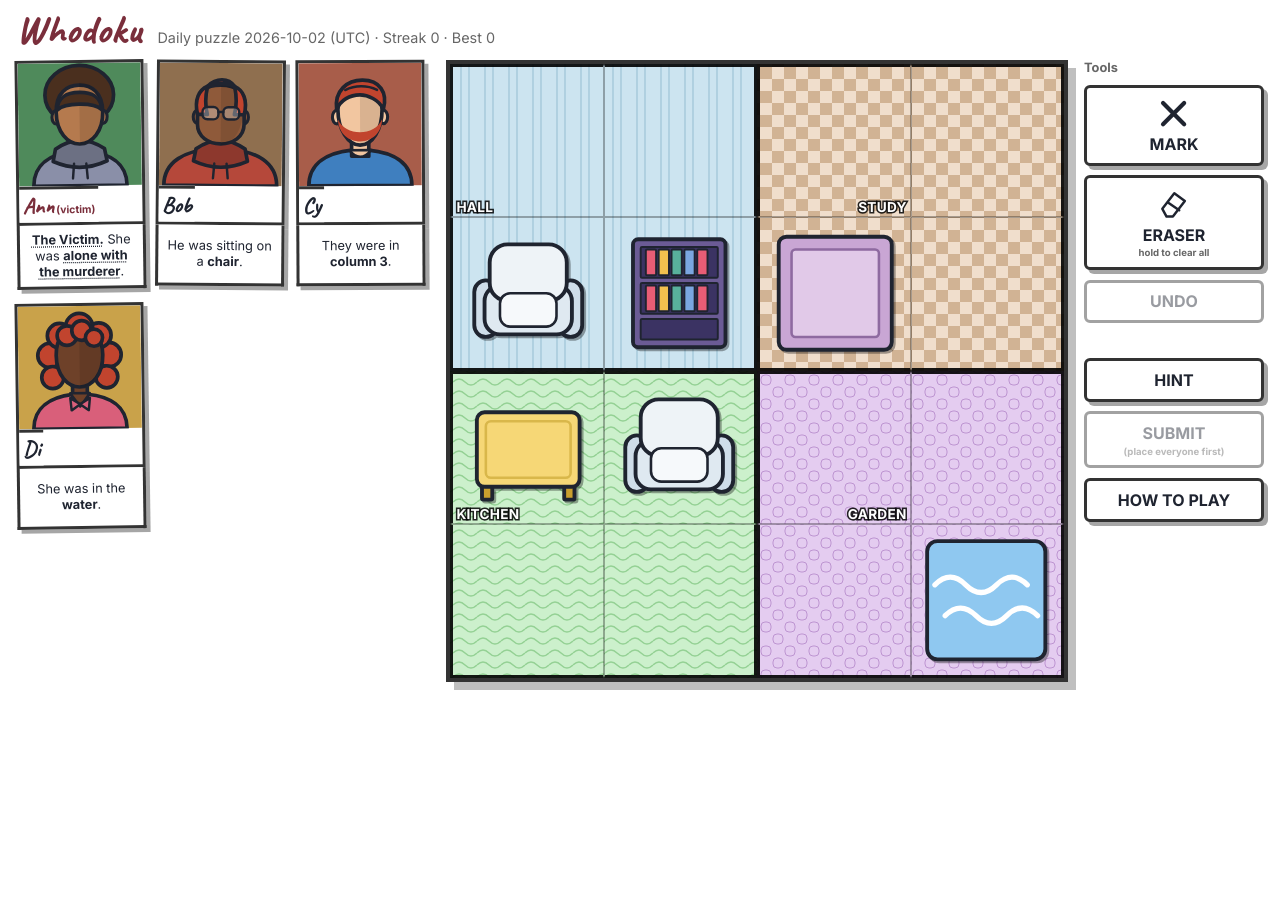
it: Game › asks for a complete board before checking
Click the button "Hint" at {"x": 1174, "y": 380}, box [1084,358,1264,402]
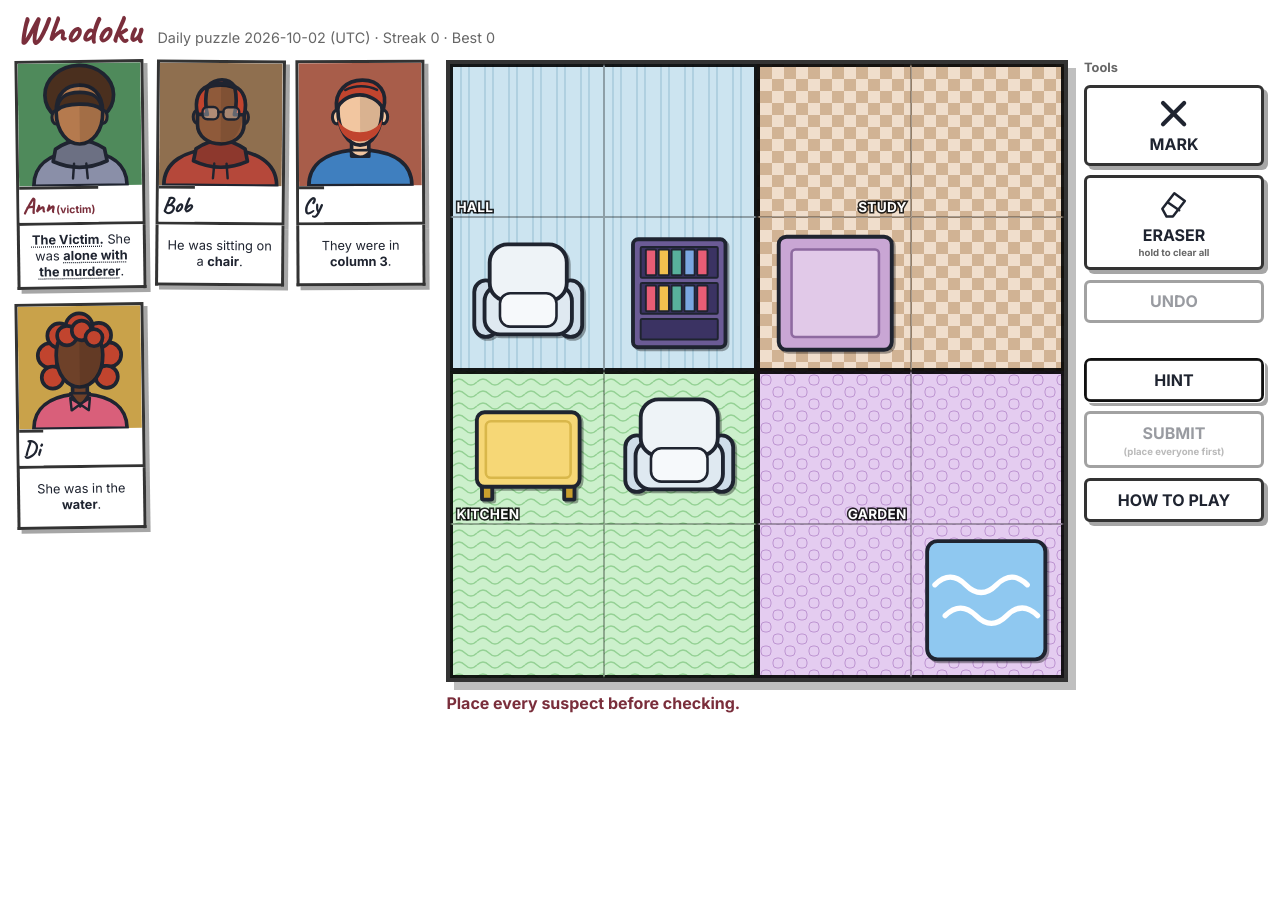
Expected: the message shows "Place every suspect", [446,693,740,713]
